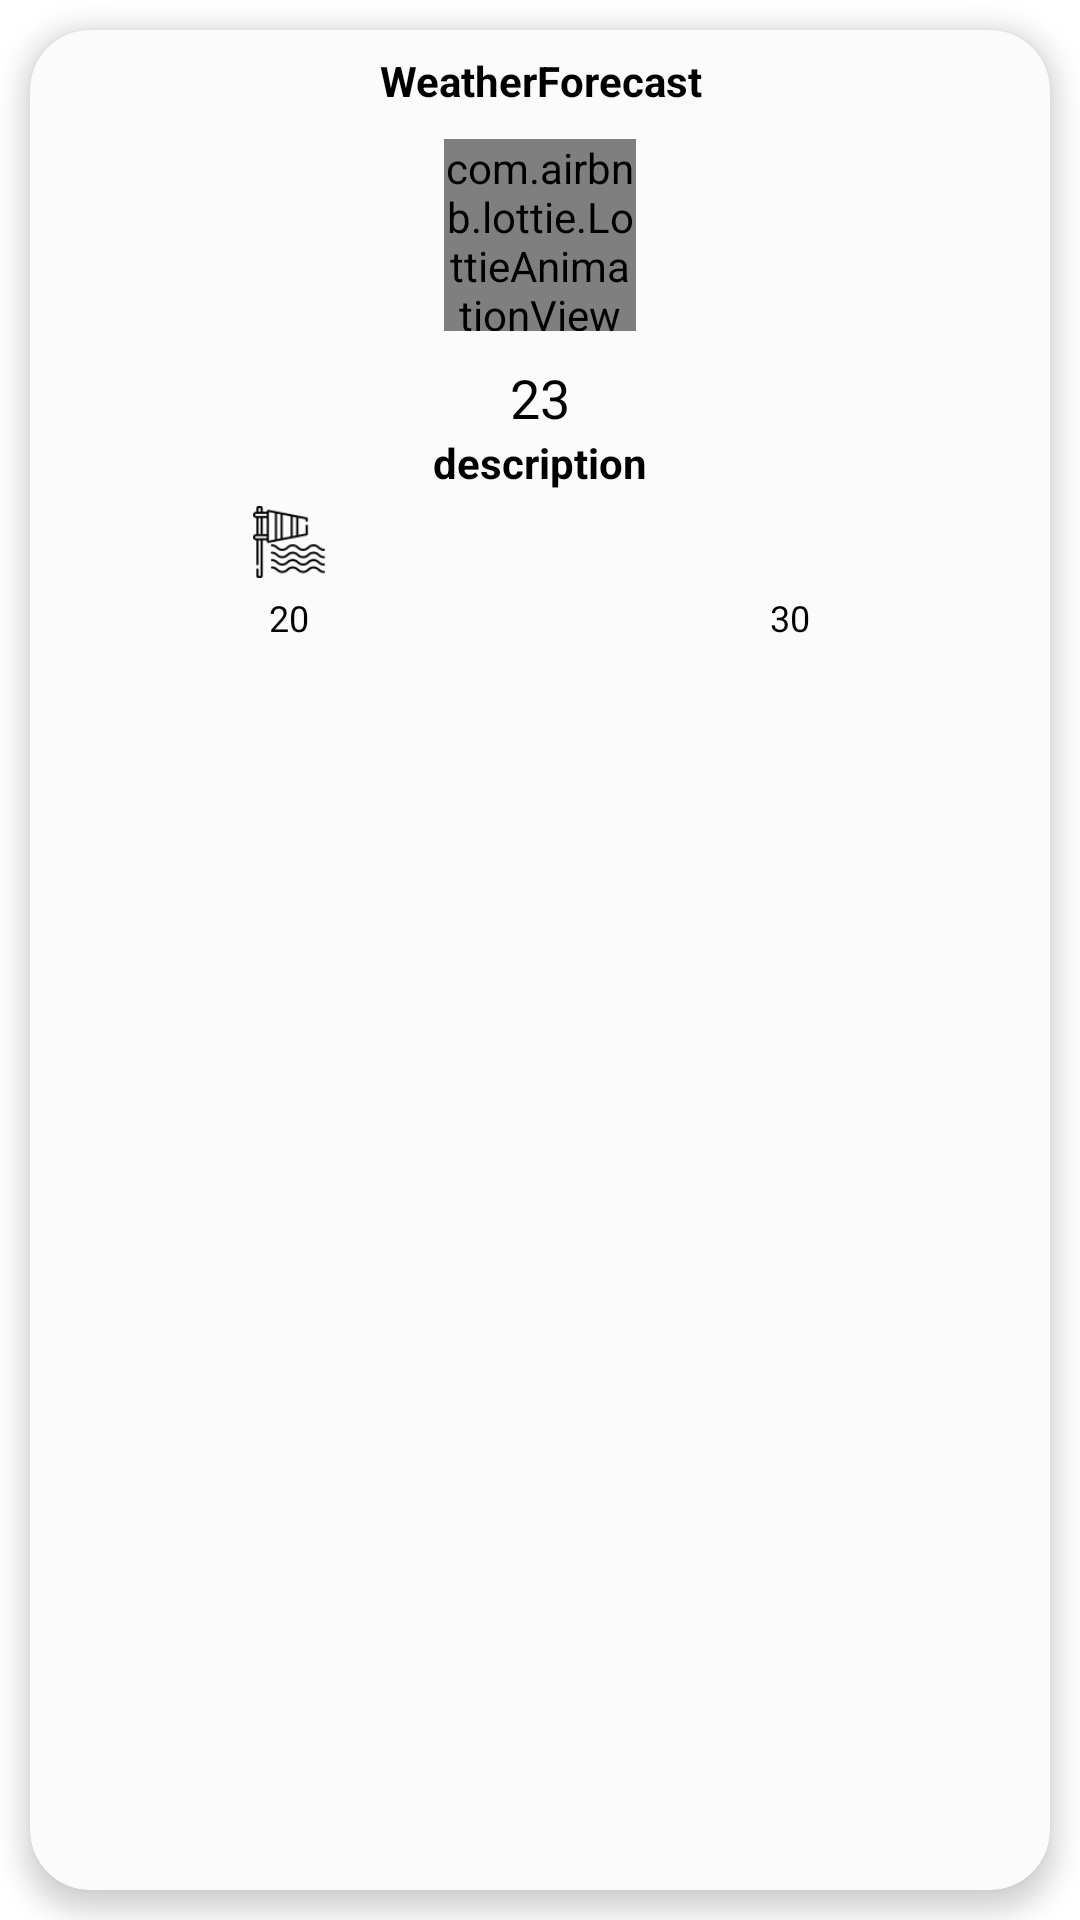

Icon click points for this 1080x1920 phone screenshot, format (x,y):
wind direction: (289,542)
